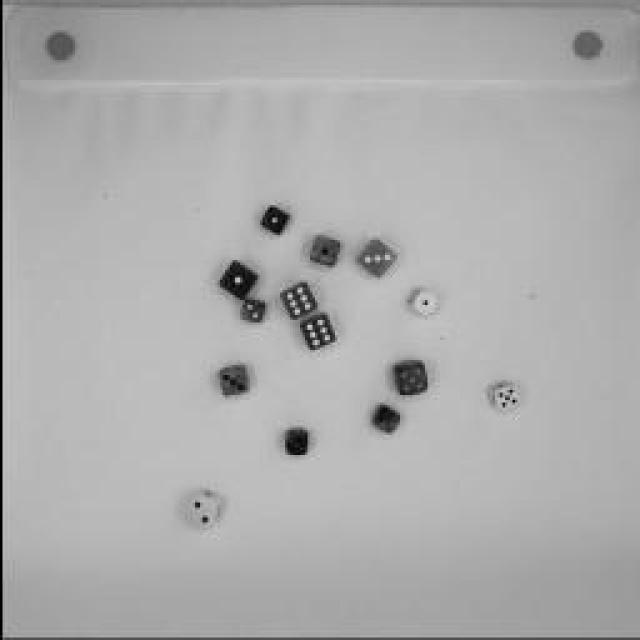dice_1: (204, 252, 264, 306), (299, 224, 341, 274), (402, 282, 442, 322), (249, 204, 291, 238)
dice_2: (175, 485, 225, 535), (234, 298, 264, 328)
dice_3: (211, 360, 261, 405), (351, 236, 399, 282), (276, 428, 312, 460), (368, 402, 400, 438)
dice_5: (382, 358, 430, 398), (481, 378, 521, 412)
dice_6: (274, 278, 321, 322), (295, 315, 337, 355)
